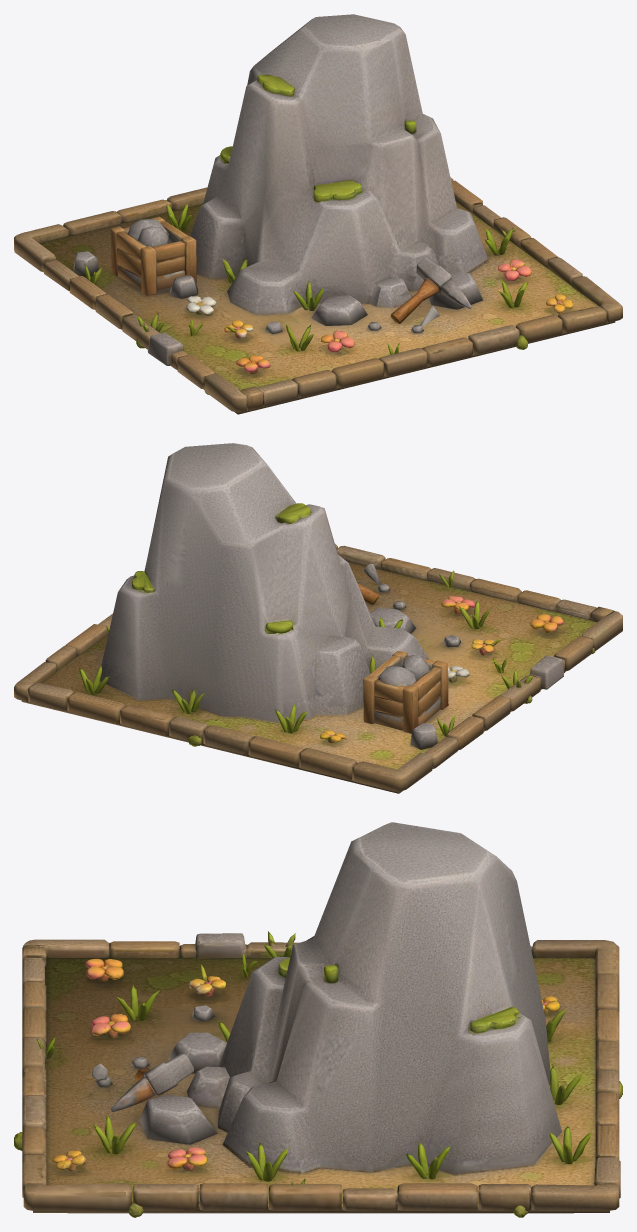
Rendered from rocky_hill_3d_model.fbx.
3 renders of one model, top to bottom at view 1: azimuth 30°, elevation 25°; view 2: azimuth 150°, elevation 25°; view 3: azimuth 270°, elevation 25°, orthographic. The views are drawn at different scales.
Parts seen in each view (by area): view 1: tripo_part_3, tripo_part_115, tripo_part_94, tripo_part_125, tripo_part_126, tripo_part_128, tripo_part_131, tripo_part_37; view 2: tripo_part_3, tripo_part_115, tripo_part_94, tripo_part_126, tripo_part_88, tripo_part_130; view 3: tripo_part_3, tripo_part_94, tripo_part_115, tripo_part_128, tripo_part_125, tripo_part_126, tripo_part_131, tripo_part_40, tripo_part_65, tripo_part_5.
Boxes of the visible parts, <box> form: tripo_part_3: <box>190,14,488,315</box>; tripo_part_115: <box>14,74,622,412</box>; tripo_part_94: <box>39,201,615,414</box>; tripo_part_125: <box>390,257,471,323</box>; tripo_part_126: <box>311,295,367,325</box>; tripo_part_128: <box>429,271,482,309</box>; tripo_part_131: <box>375,277,411,307</box>; tripo_part_37: <box>313,180,361,202</box>; tripo_part_3: <box>100,443,428,723</box>; tripo_part_115: <box>14,503,622,791</box>; tripo_part_94: <box>21,561,596,793</box>; tripo_part_126: <box>370,608,415,633</box>; tripo_part_88: <box>378,665,416,686</box>; tripo_part_130: <box>410,723,437,749</box>; tripo_part_3: <box>218,822,561,1175</box>; tripo_part_94: <box>33,958,609,1213</box>; tripo_part_115: <box>22,933,620,1211</box>; tripo_part_128: <box>139,1094,217,1144</box>; tripo_part_125: <box>110,1053,193,1112</box>; tripo_part_126: <box>168,1032,226,1073</box>; tripo_part_131: <box>187,1066,229,1108</box>; tripo_part_40: <box>470,1007,519,1033</box>; tripo_part_65: <box>93,1114,135,1154</box>; tripo_part_5: <box>167,1147,206,1168</box>.
Size of the model in its own units: 1 by 0.5538 by 1.
